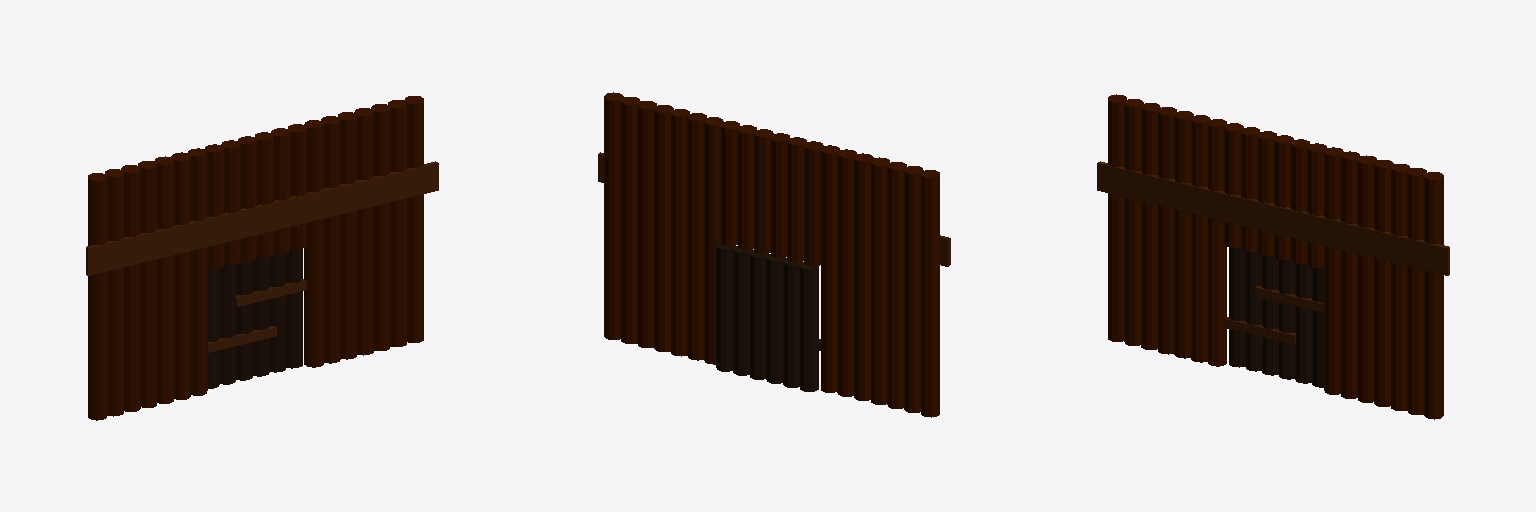
The model's file is puertaVallaCerrada.obj.
The picture shows the model from 3 angles: view 1: azimuth 30°, elevation 25°; view 2: azimuth 150°, elevation 25°; view 3: azimuth 330°, elevation 25°; orthographic projection.
Parts seen in each view (by area): view 1: PuertaValla_Cylinder.016; view 2: PuertaValla_Cylinder.016; view 3: PuertaValla_Cylinder.016.
Boxes of the visible parts, x1=… form: PuertaValla_Cylinder.016: x1=86, y1=96, x2=438, y2=420; PuertaValla_Cylinder.016: x1=598, y1=92, x2=950, y2=417; PuertaValla_Cylinder.016: x1=1097, y1=94, x2=1449, y2=419.
Bounding box in the file's own units: 8 × 5.22 × 0.584.